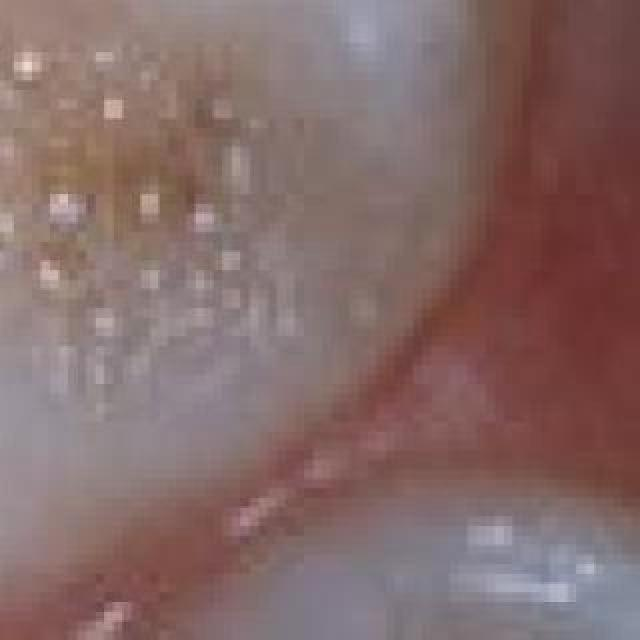cavities: (0, 0, 492, 466)
